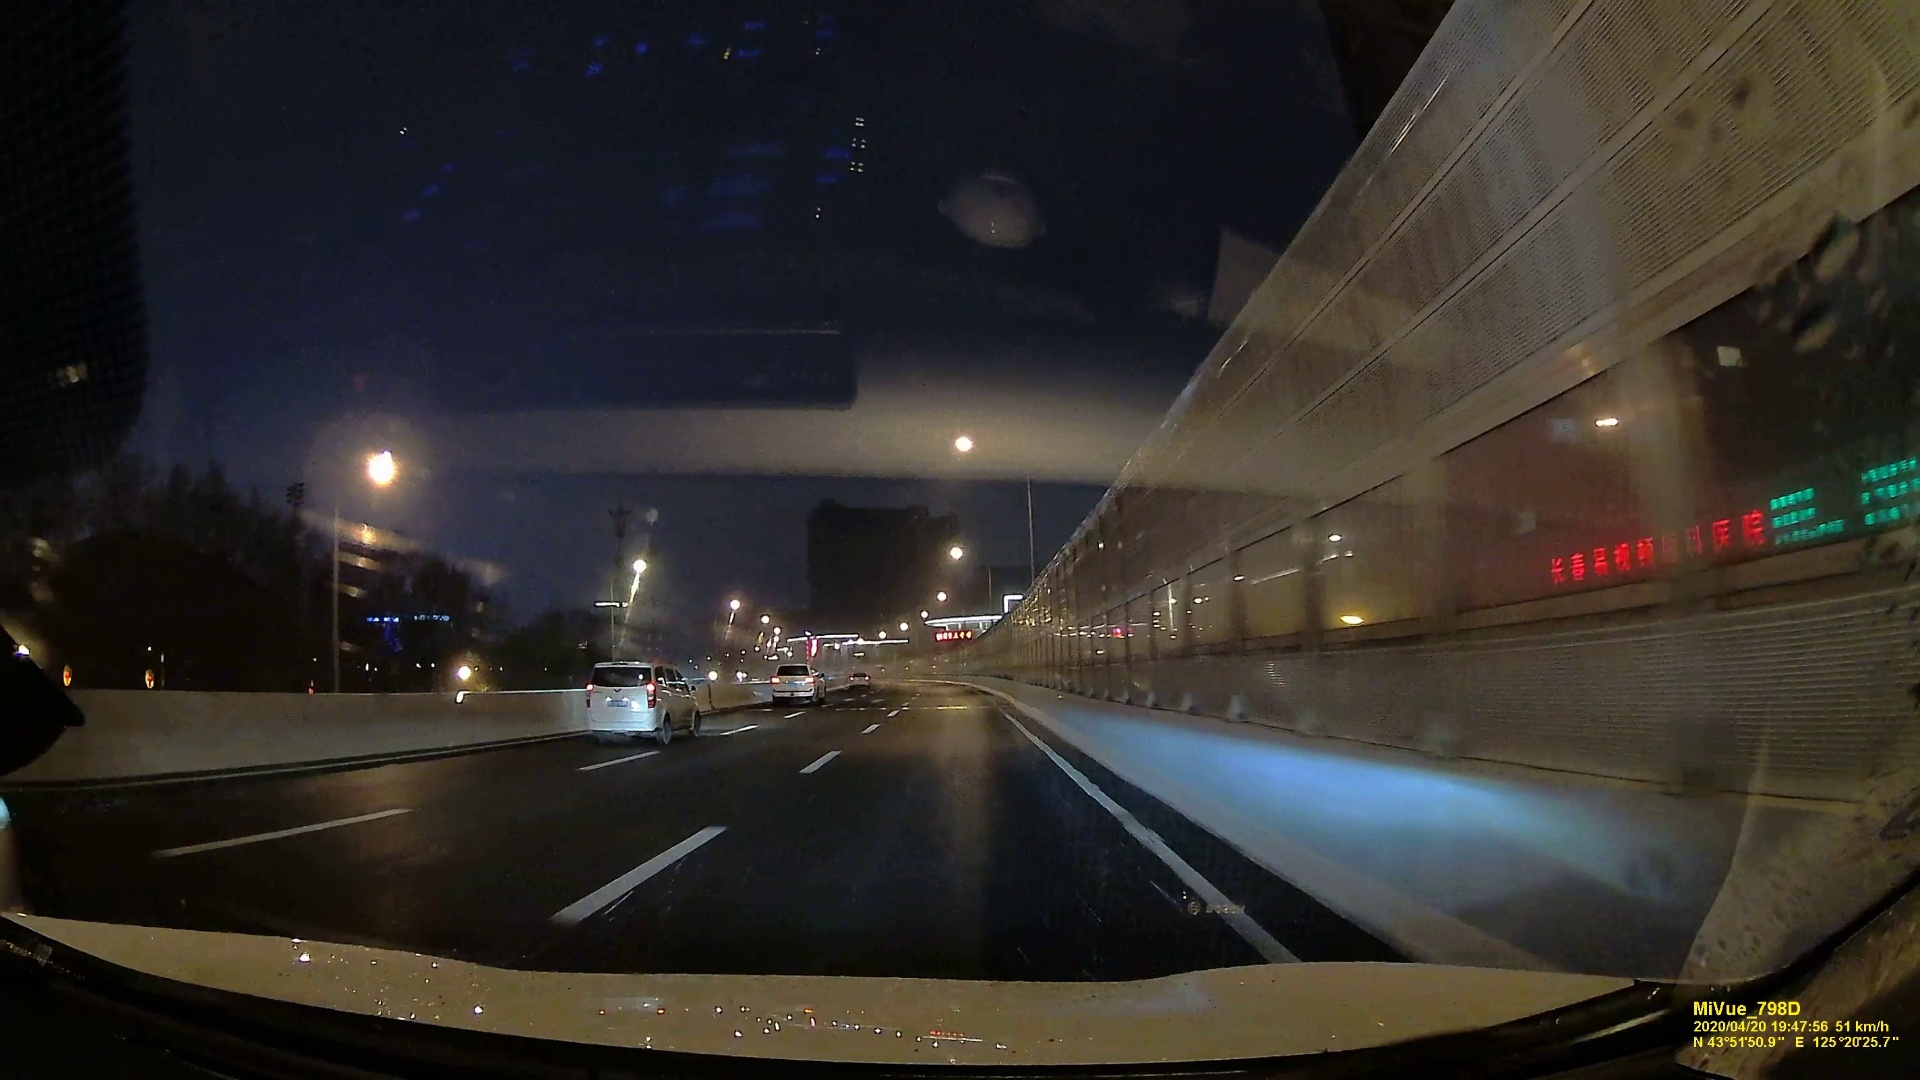vehicle: (580, 658, 705, 742), (770, 663, 825, 703), (848, 671, 872, 688)
